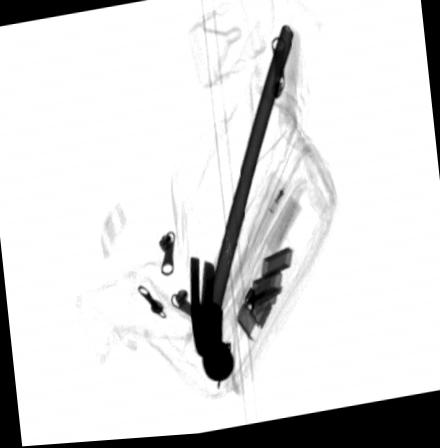Hammer: (189, 28, 293, 387)
